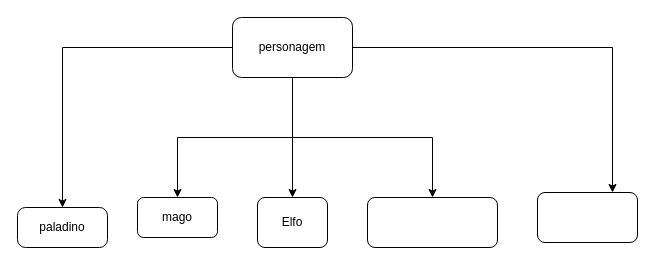
The diagram is 655 pixels wide and 265 high, and some of its shapes have lost their labels. Here are the shapes that lost their labels. From the top down, the centre of each, then its label:
[432,222]: humano
[587,217]: Orc
